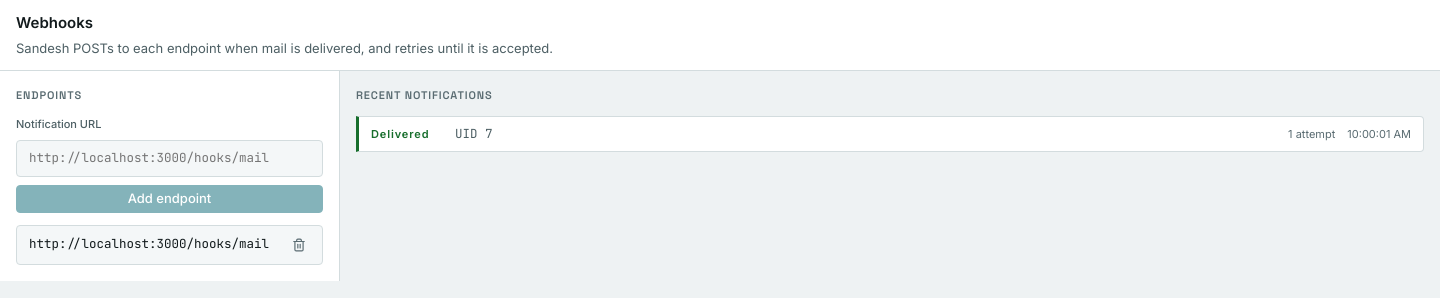
Test: WebhooksRoute › shows the payload on demand rather than by default
Expected: the text "MessageReceived" is not shown
Click the button "Delivered UID 7 1 attempt 10:00:01 AM".
click(400, 134)  # box x1=359 y1=116 x2=1423 y2=151
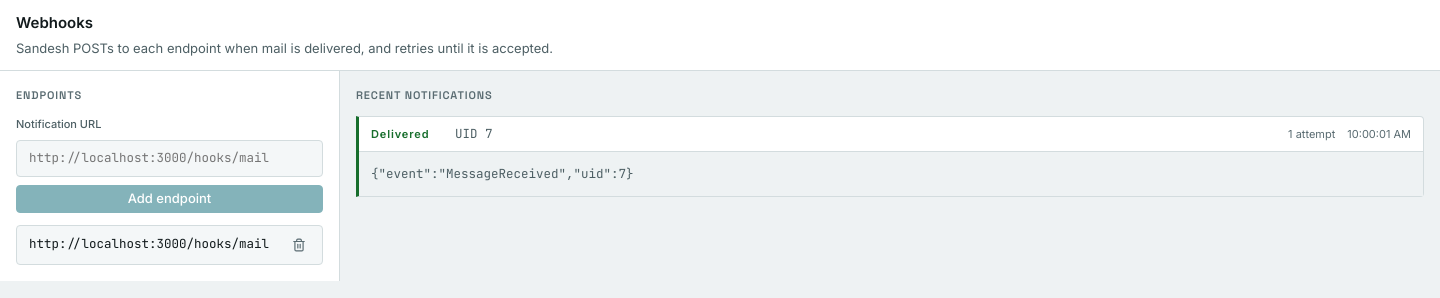
Now the text "{\"event\":\"MessageReceived\",\"uid\":7}" is shown, box x1=359 y1=151 x2=1423 y2=196
